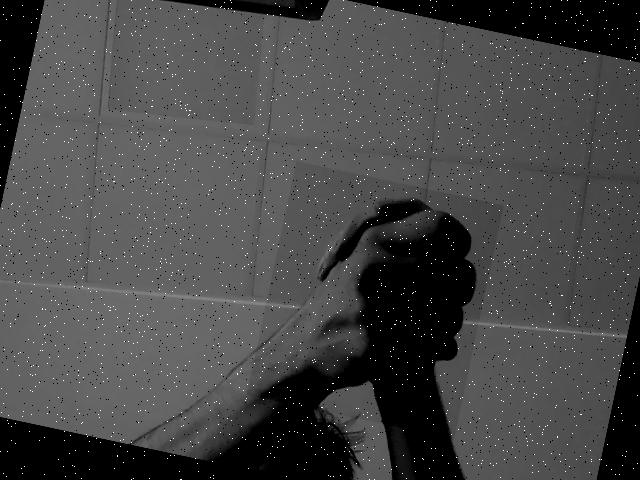friend: (253, 186, 478, 412)
